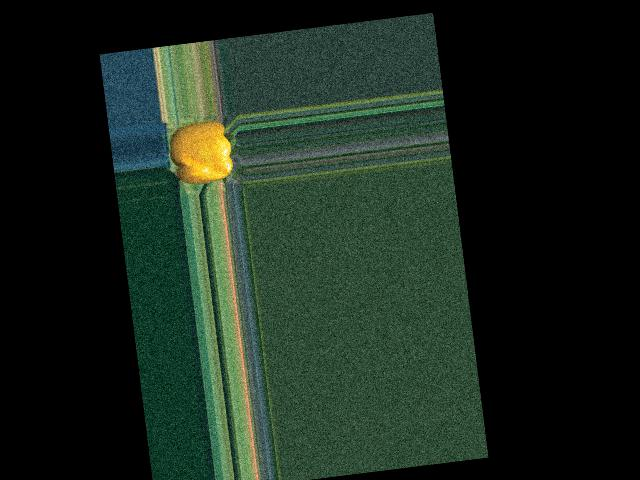bell_pepper: (165, 114, 241, 192)
